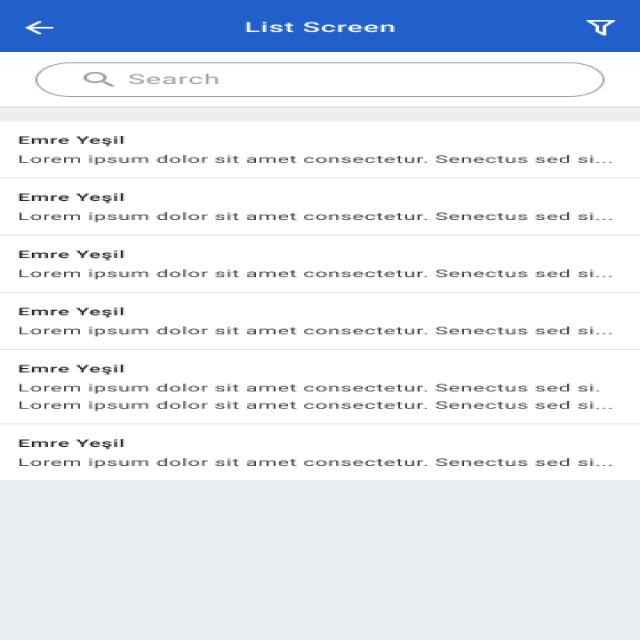QLabel: (9, 266, 629, 280), (9, 324, 622, 338), (7, 399, 628, 412), (10, 211, 627, 223), (8, 457, 616, 469), (16, 154, 619, 166), (9, 382, 607, 394), (238, 20, 396, 36), (13, 134, 126, 148), (12, 191, 130, 203), (12, 306, 129, 317), (12, 363, 128, 374), (11, 249, 129, 259), (13, 438, 129, 448)
VAppBar: (0, 0, 640, 51)
VCard: (0, 121, 640, 482), (0, 52, 640, 108)
VIcon: (579, 18, 618, 37), (24, 20, 53, 36)
VTextField: (33, 61, 607, 99)
